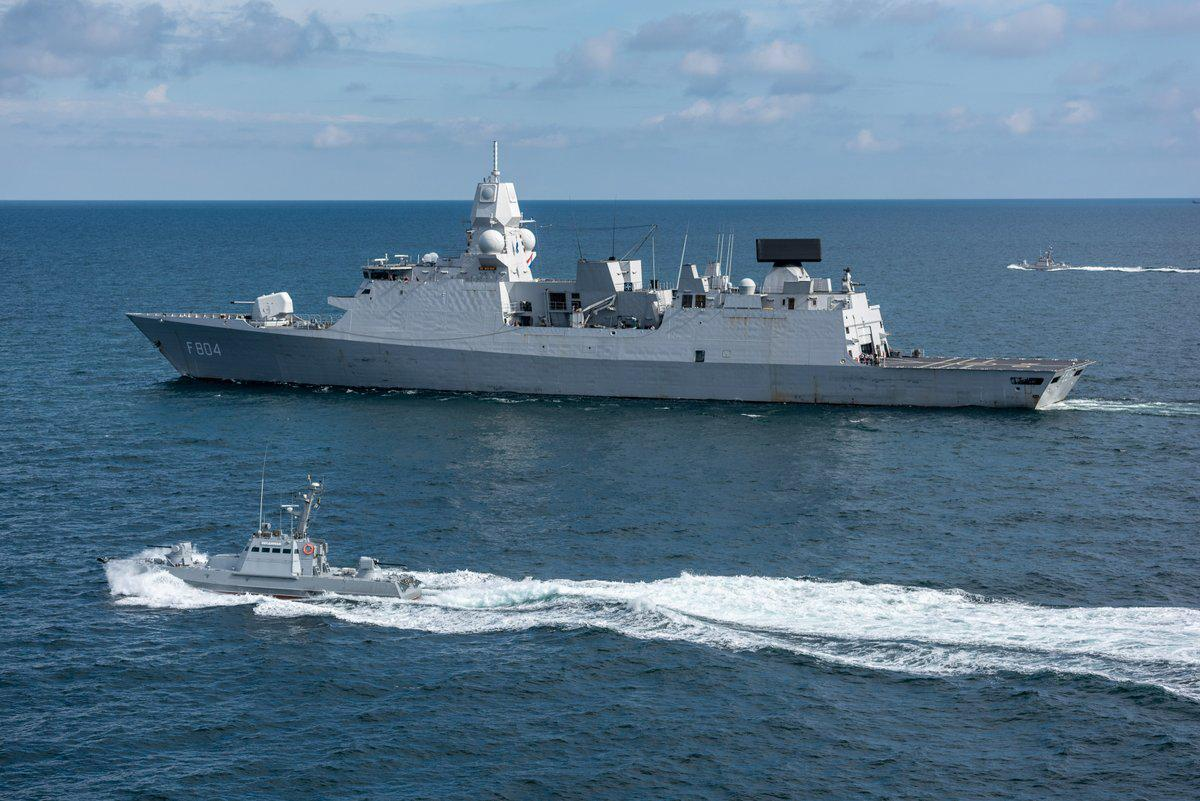warship: (121, 137, 1084, 411), (147, 484, 419, 611), (1018, 248, 1077, 271)
